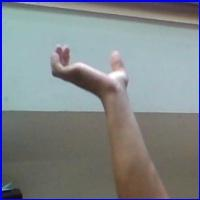B: (48, 42, 135, 98)
